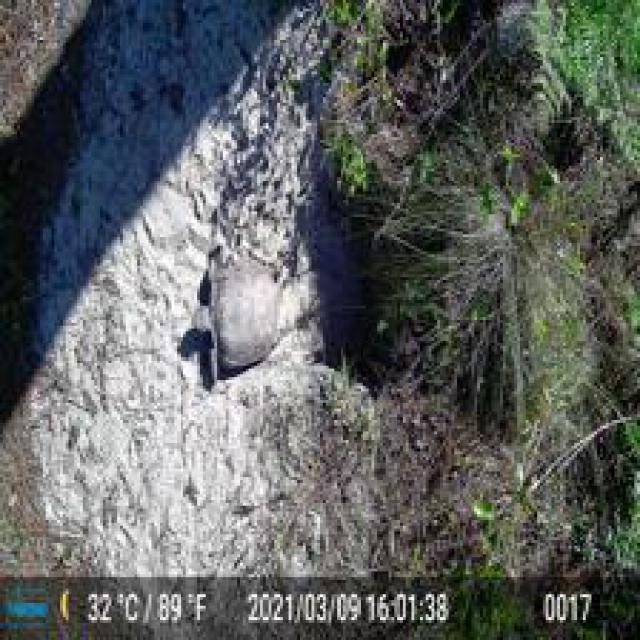tortoise: (194, 248, 286, 382)
